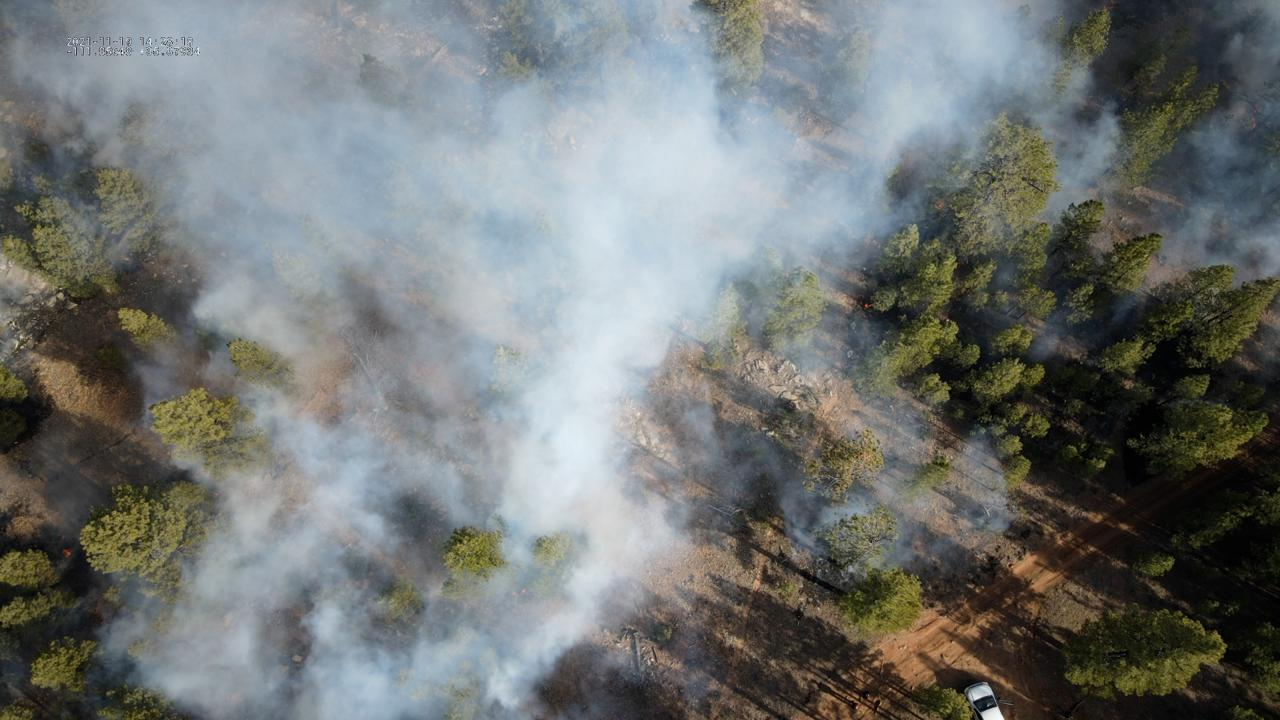fire: (61, 548, 73, 559), (862, 302, 874, 310)
smoke: (0, 0, 1280, 720)
